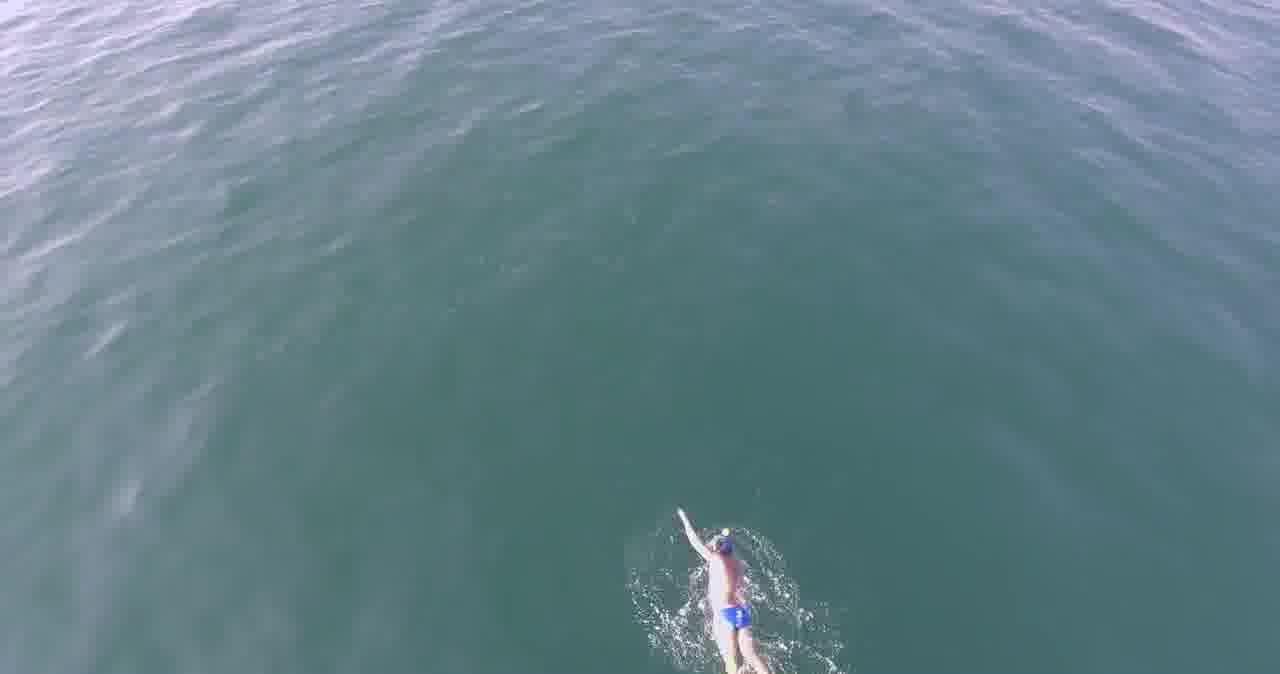human: (663, 500, 802, 669)
